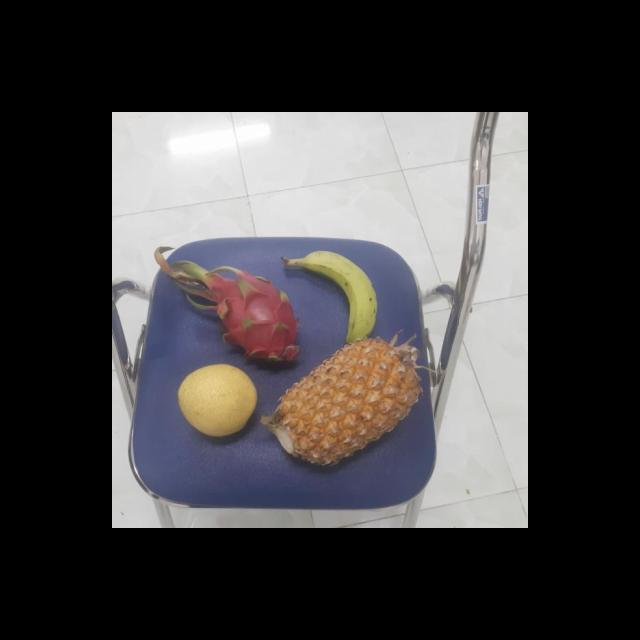banana: (290, 246, 382, 348)
pear: (178, 368, 262, 440)
pineapple: (269, 336, 423, 468)
pitaya: (194, 268, 303, 368)
